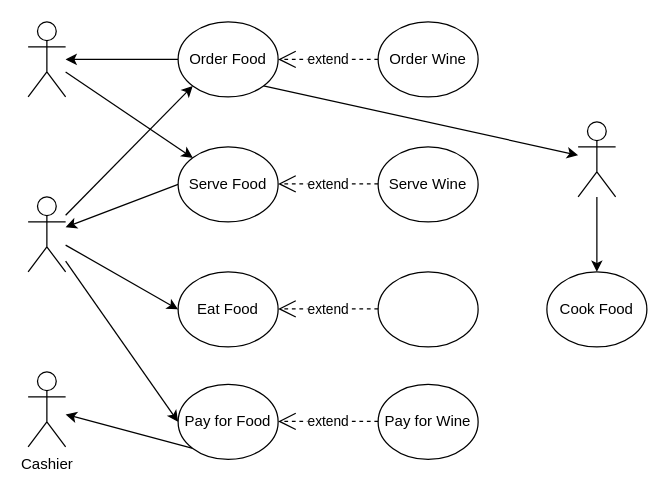
The diagram is 669 pixels wide and 495 high, and some of its shapes have lost their labels. The shapes that lost their labels are listed below. From the top down, each one's centre as x and y in pixels, then its label:
pixel 46 59: Waiter
pixel 596 159: Chef
pixel 46 234: Client
pixel 427 309: Drink Wine
